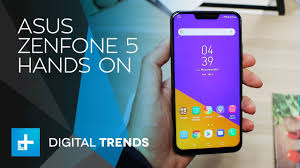asus: (168, 8, 244, 156)
